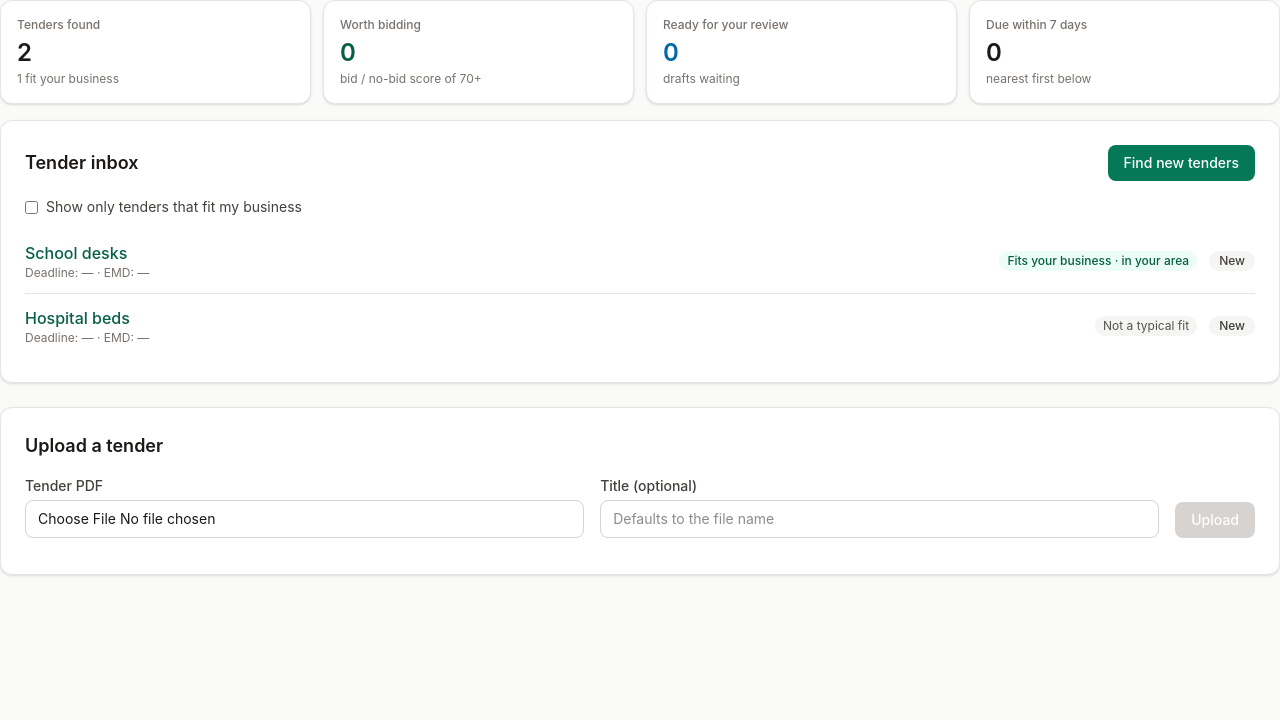
marks which tenders fit the business and can hide the rest
The width and height of the screenshot is (1280, 720).
expect the text "Fits your business · in your area" is shown: met, box top-left (999, 251), bottom-right (1197, 271)
expect the text "Not a typical fit" is shown: met, box top-left (1095, 316), bottom-right (1197, 336)
What coordinates should you click on to do the following:
click the checkbox labelled "Show only tenders that fit my business"
I would click on:
 (32, 207)
Its box is top-left (25, 200), bottom-right (38, 214).
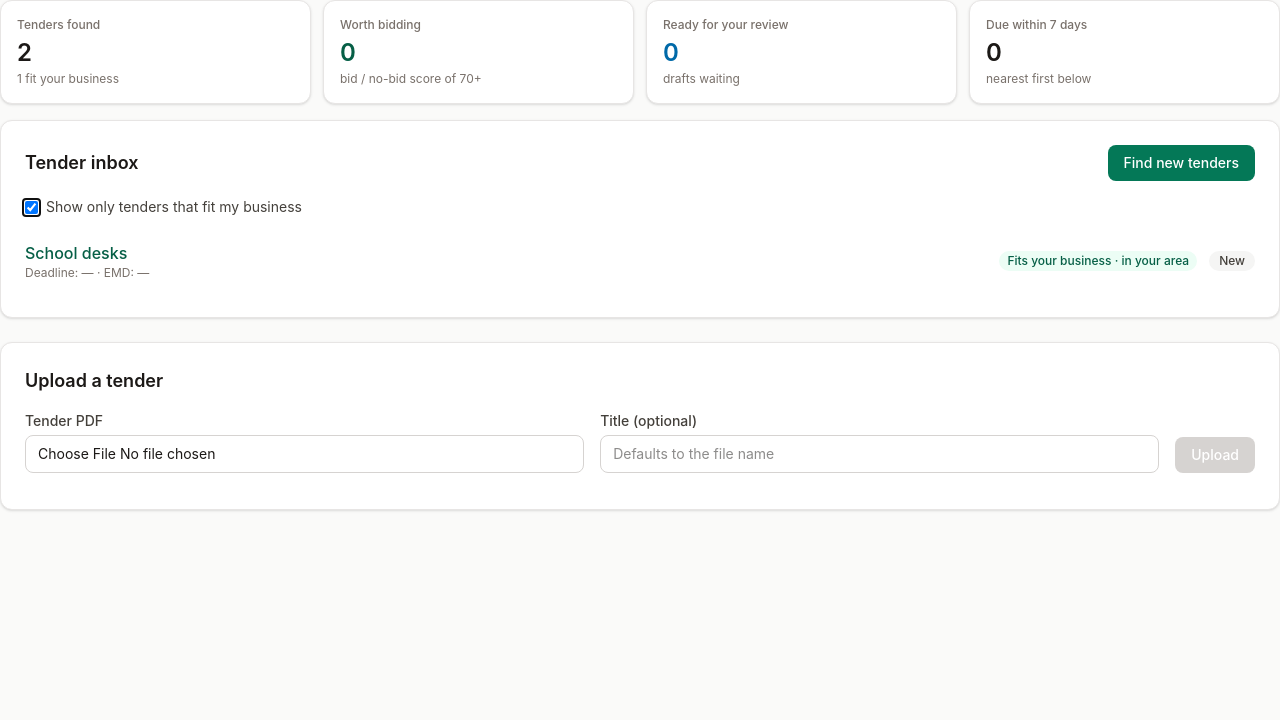
expect the link "School desks" is shown: met, box top-left (25, 243), bottom-right (127, 263)
expect the link "Hospital beds" is gone: met
